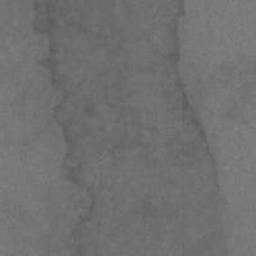Water spot: (31, 0, 230, 255)
